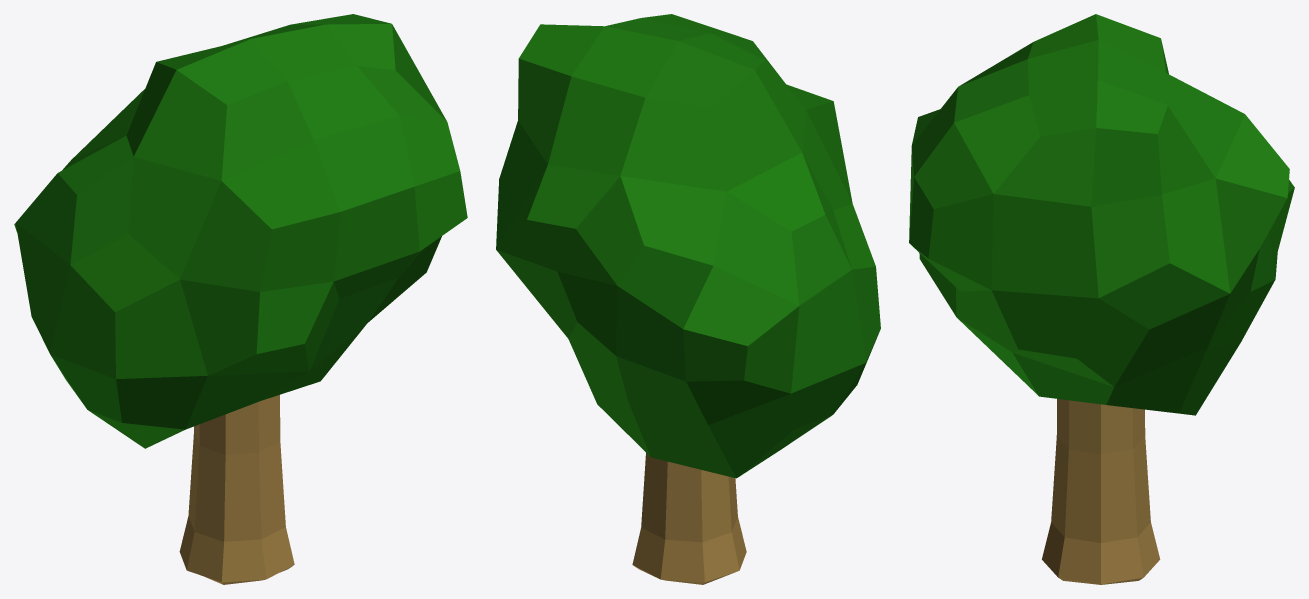
File: tree3.fbx
3 renders of one model, left to right at view 1: azimuth 30°, elevation 25°; view 2: azimuth 150°, elevation 25°; view 3: azimuth 270°, elevation 25°, orthographic. The views are drawn at different scales.
Parts seen in each view (by area): view 1: Procedural Low Poly Rock, Cube; view 2: Procedural Low Poly Rock, Cube; view 3: Procedural Low Poly Rock, Cube.
Boxes of the visible parts, x1,y1,x2,y2 form: Procedural Low Poly Rock: [14, 14, 467, 448]; Cube: [179, 395, 294, 584]; Procedural Low Poly Rock: [496, 14, 880, 478]; Cube: [632, 453, 746, 584]; Procedural Low Poly Rock: [909, 14, 1294, 415]; Cube: [1042, 399, 1160, 584].
Bounding box in the file's own units: 160 × 223 × 147.
